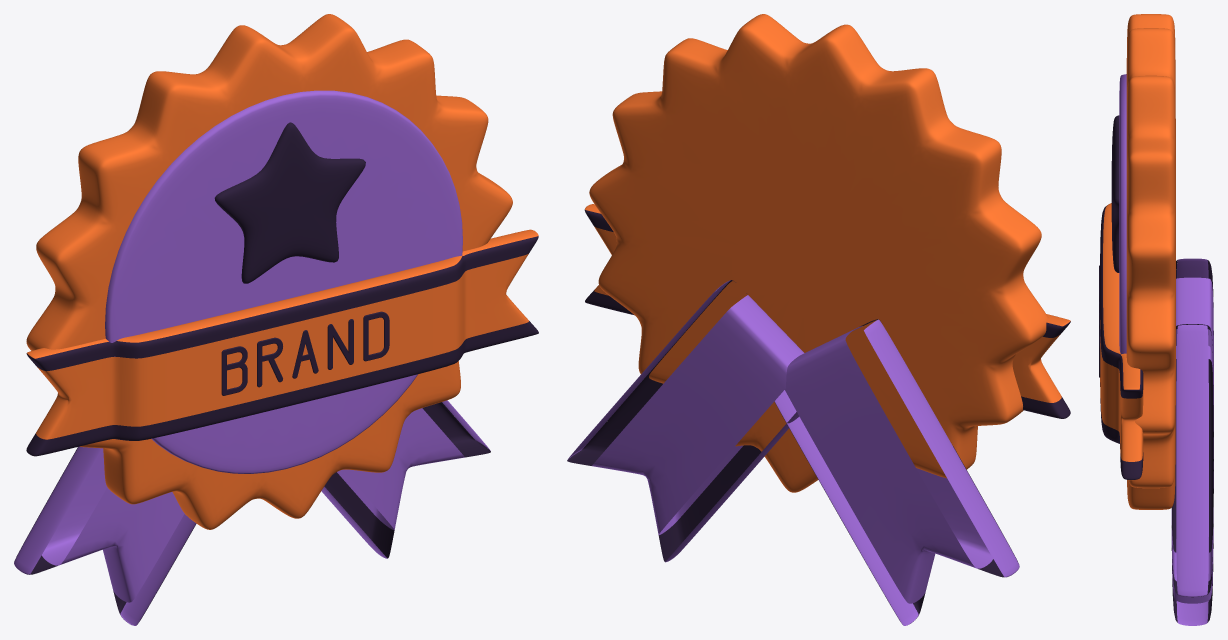
File: brand-3d-animated-icon-536684750743.glb
The picture shows the model from 3 angles, left to right: view 1: azimuth 30°, elevation 25°; view 2: azimuth 150°, elevation 25°; view 3: azimuth 270°, elevation 25°; orthographic projection. The views are drawn at different scales.
Visible parts, largest first — view 1: Base Badge, Badge, Ribbon Text, Bottom Ribbon 1, Star, Bottom Ribbon 2, Curve.010, Curve.004, Curve.016; view 2: Badge, Bottom Ribbon 1, Bottom Ribbon 2, Ribbon Text; view 3: Badge, Bottom Ribbon 2, Ribbon Text, Bottom Ribbon 1, Base Badge, Star.
Part boxes in pixels (bbox=[...]): Base Badge: bbox=[105, 90, 462, 473]; Badge: bbox=[26, 14, 512, 529]; Ribbon Text: bbox=[26, 229, 538, 456]; Bottom Ribbon 1: bbox=[14, 446, 196, 625]; Star: bbox=[214, 122, 365, 283]; Bottom Ribbon 2: bbox=[321, 400, 490, 558]; Curve.010: bbox=[221, 346, 247, 395]; Curve.004: bbox=[327, 319, 353, 369]; Curve.016: bbox=[363, 311, 389, 361]; Badge: bbox=[589, 14, 1048, 492]; Bottom Ribbon 1: bbox=[774, 319, 1019, 625]; Bottom Ribbon 2: bbox=[567, 280, 804, 562]; Ribbon Text: bbox=[584, 204, 1070, 418]; Badge: bbox=[1126, 14, 1175, 509]; Bottom Ribbon 2: bbox=[1171, 324, 1213, 625]; Ribbon Text: bbox=[1100, 203, 1143, 480]; Bottom Ribbon 1: bbox=[1176, 258, 1213, 436]; Base Badge: bbox=[1119, 74, 1126, 372]; Star: bbox=[1111, 115, 1119, 272].
Size of the model in its own units: 1.63 by 1.8 by 0.3497.
